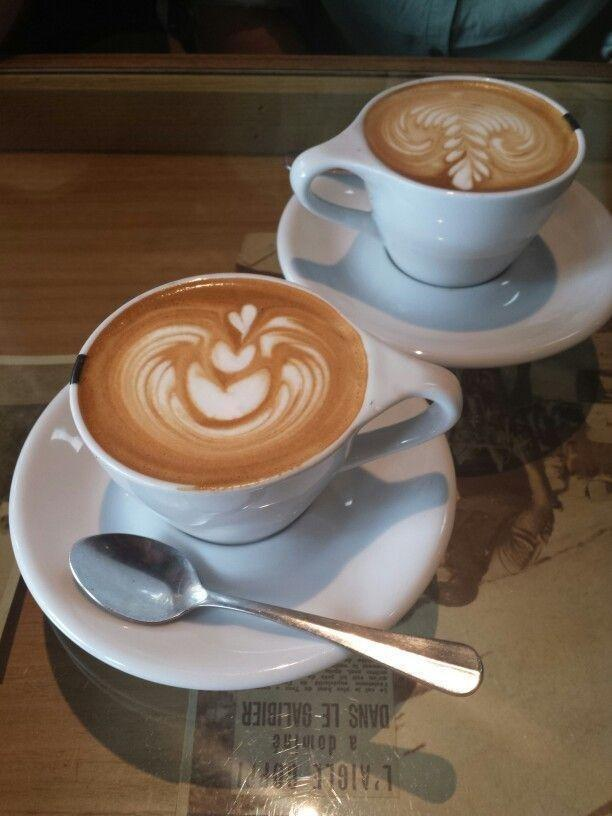cup-handle: (66, 271, 463, 545), (288, 73, 589, 289)
